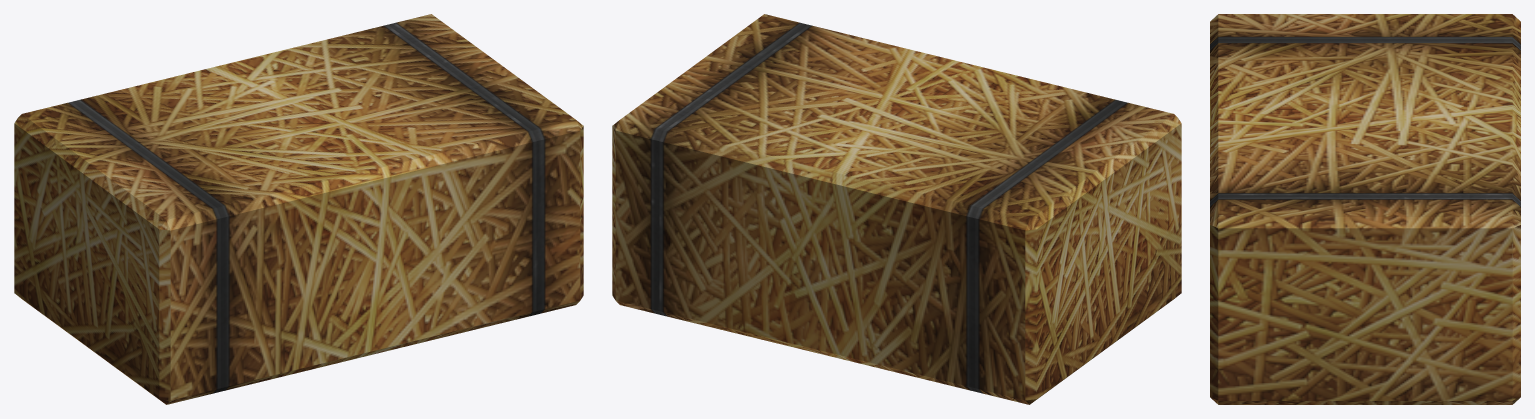
File: Hay Bale.FBX
3 views of the same model, side by side, from view 1: azimuth 30°, elevation 25°; view 2: azimuth 150°, elevation 25°; view 3: azimuth 270°, elevation 25° (orthographic).
Visible parts, largest first — view 1: Box001; view 2: Box001; view 3: Box001.
Part boxes in pixels (x1,y1,x2,y2): Box001: (14, 14, 583, 404); Box001: (612, 14, 1181, 404); Box001: (1210, 14, 1520, 404).
Size of the model in its own units: 47.24 by 19.69 by 29.53.
Materials: 1 (1 with a texture image).
